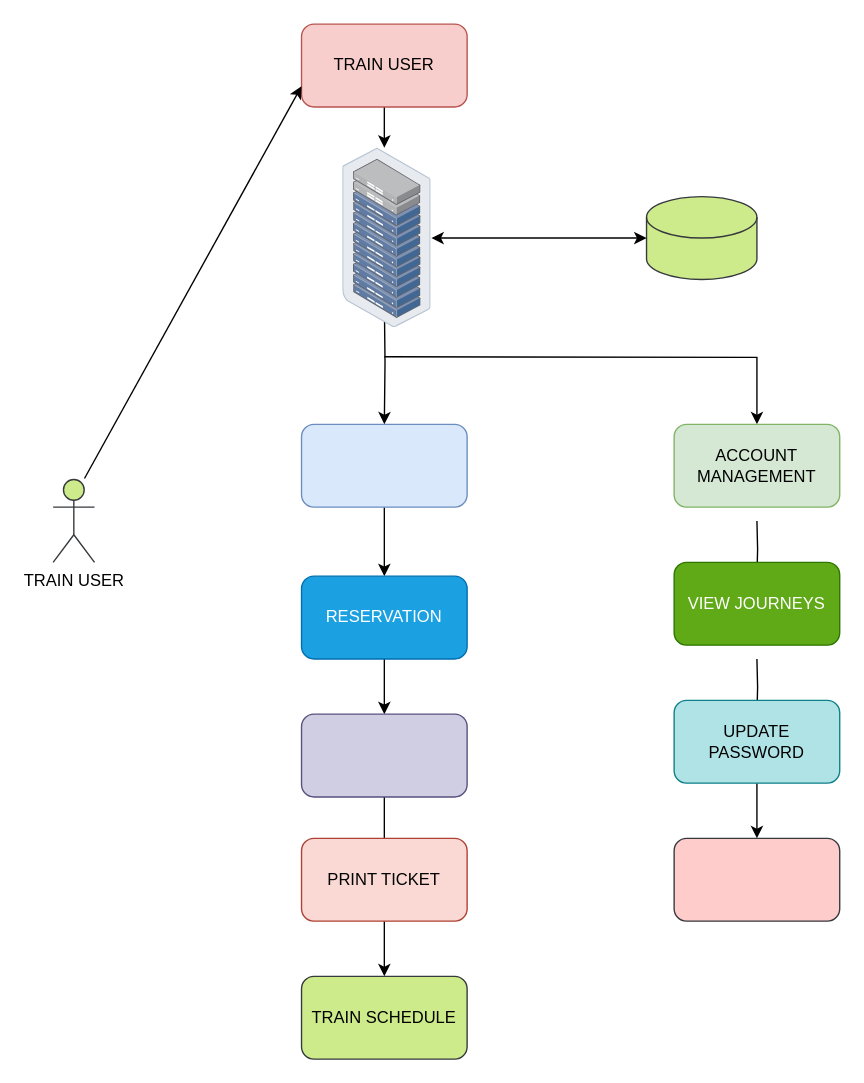
This 864x1083 diagram has some shape labels left out. The centre of each missing label's shape, as x and y in pixels:
"PNR STATUS" goes at (x=383, y=755).
"TRAIN TICKET" goes at (x=383, y=465).
"TRAIN USERS" goes at (x=701, y=237).
"UPDATE MOBILE NUMBER" goes at (x=756, y=879).
